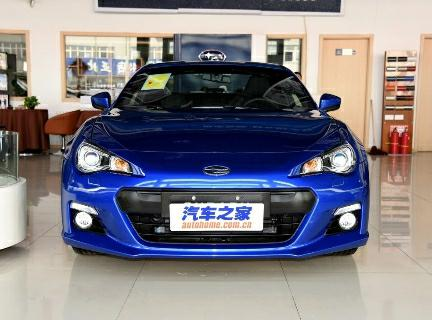car: (57, 51, 375, 276)
